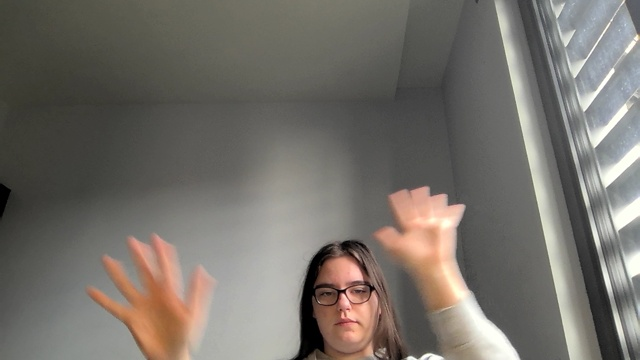hand: (85, 234, 210, 359), (373, 186, 464, 270)
